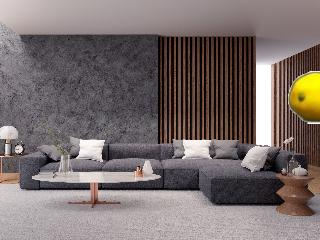lemon: (291, 73, 320, 122)
